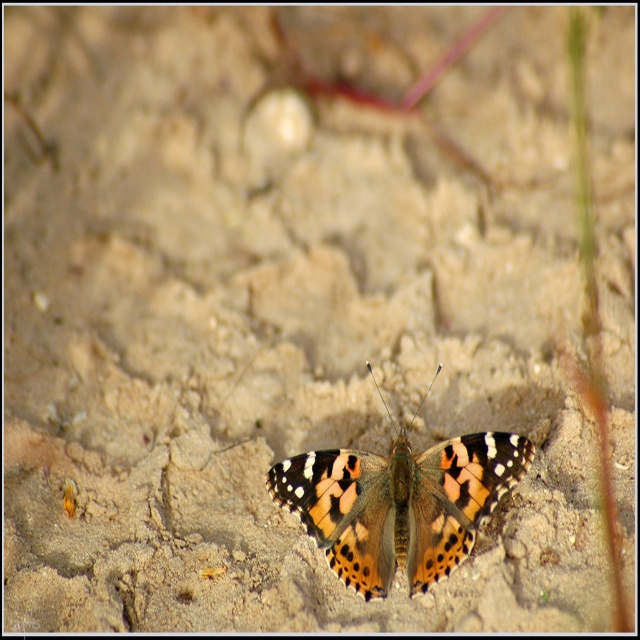Butterfly: (274, 355, 527, 605)
